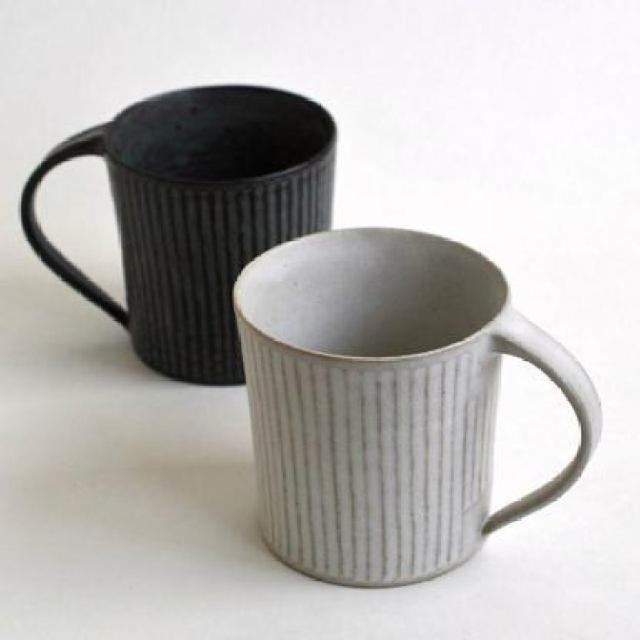glass: (234, 228, 598, 587), (24, 82, 340, 390)
